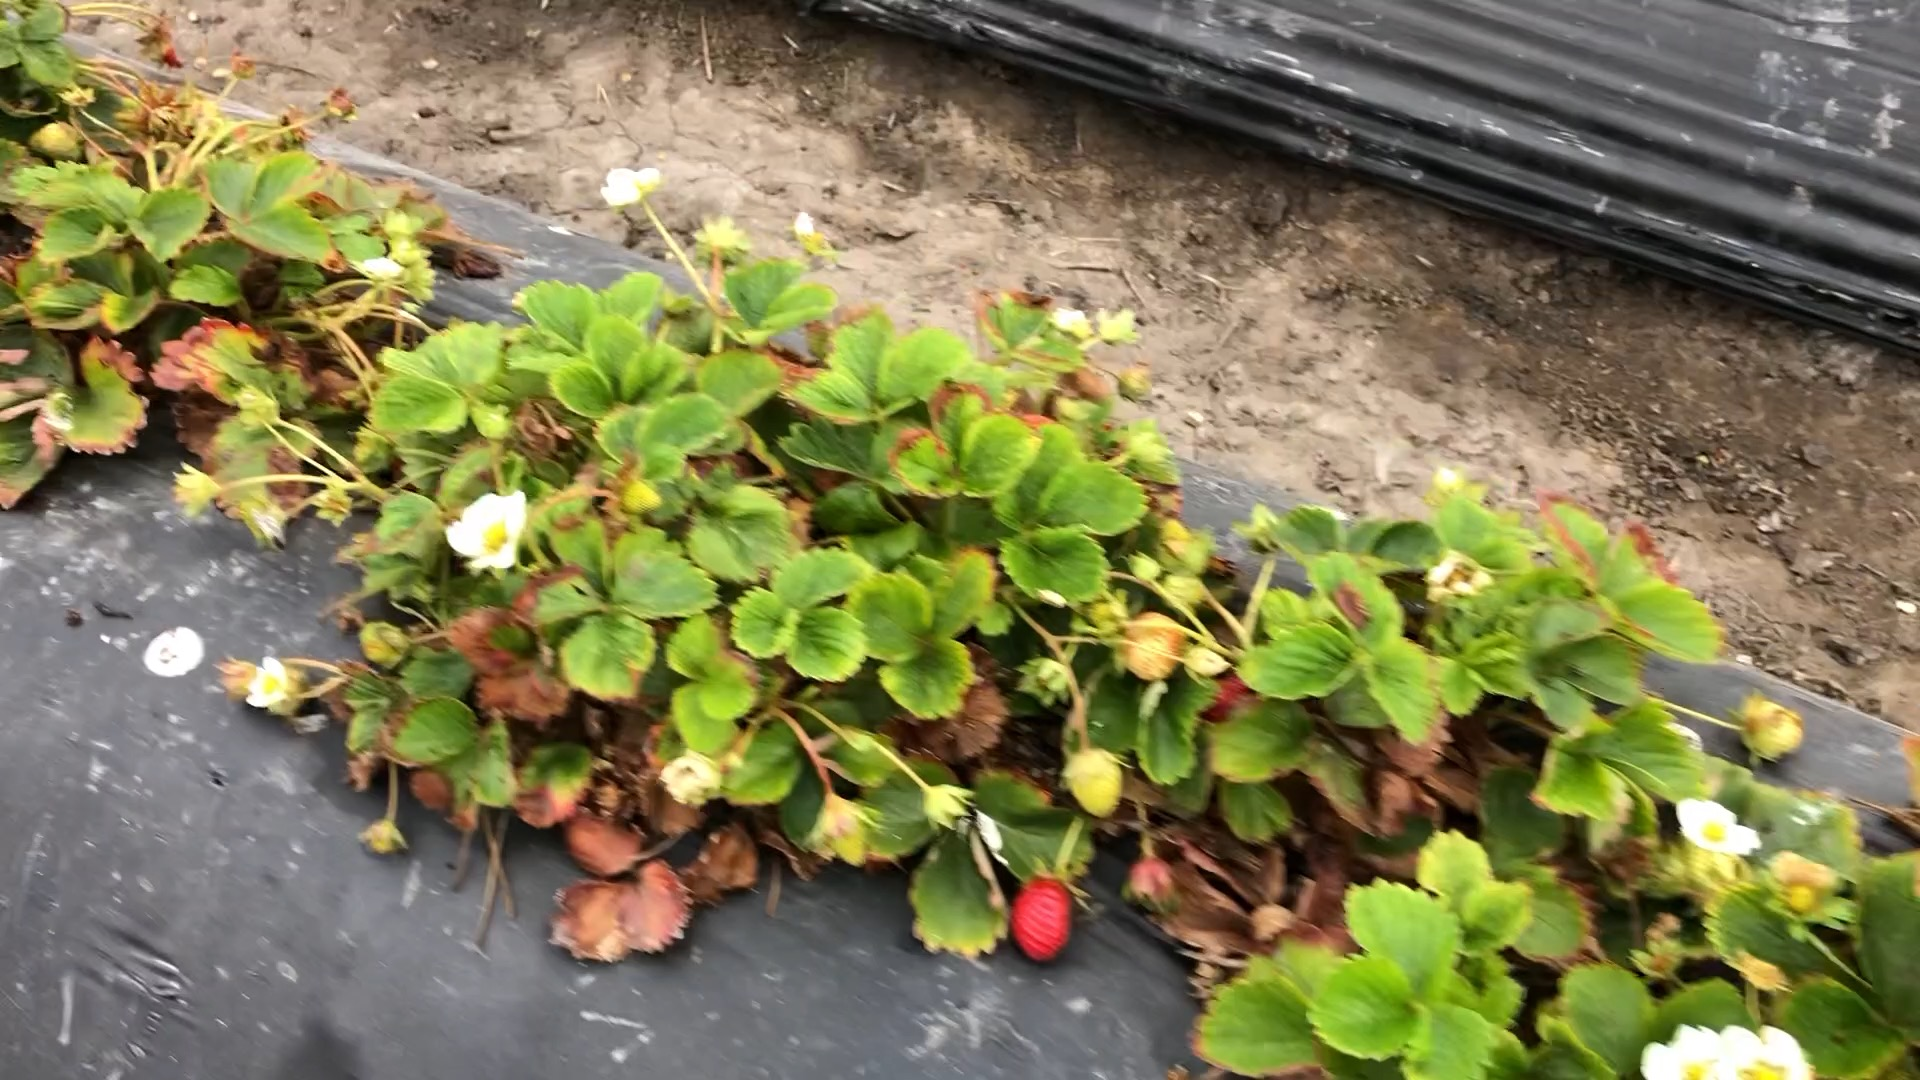ripe_strawberry: (1009, 872, 1077, 968)
unripe_strawberry: (1112, 615, 1184, 688), (1063, 746, 1131, 820), (1737, 695, 1804, 760)
